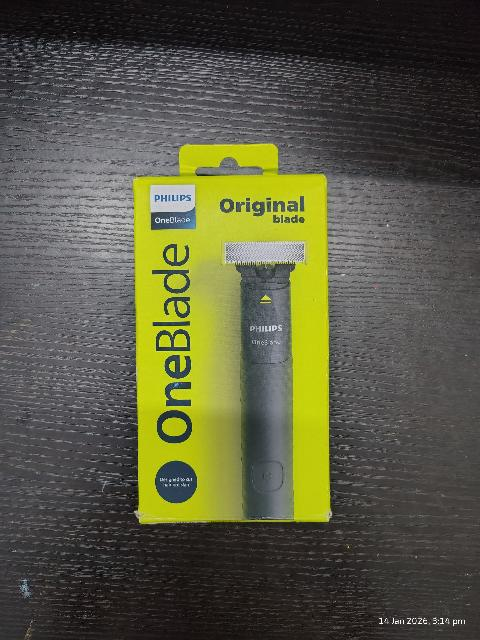phillips oneblade: (135, 141, 331, 526)
